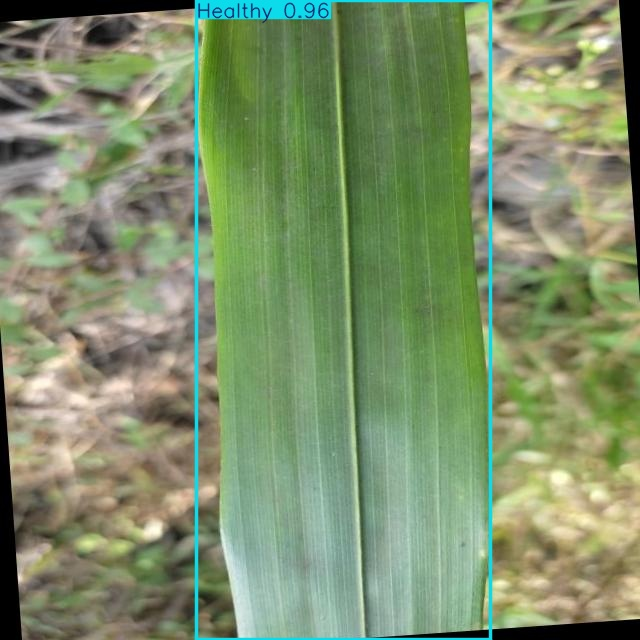Healthy: (197, 0, 491, 640)
